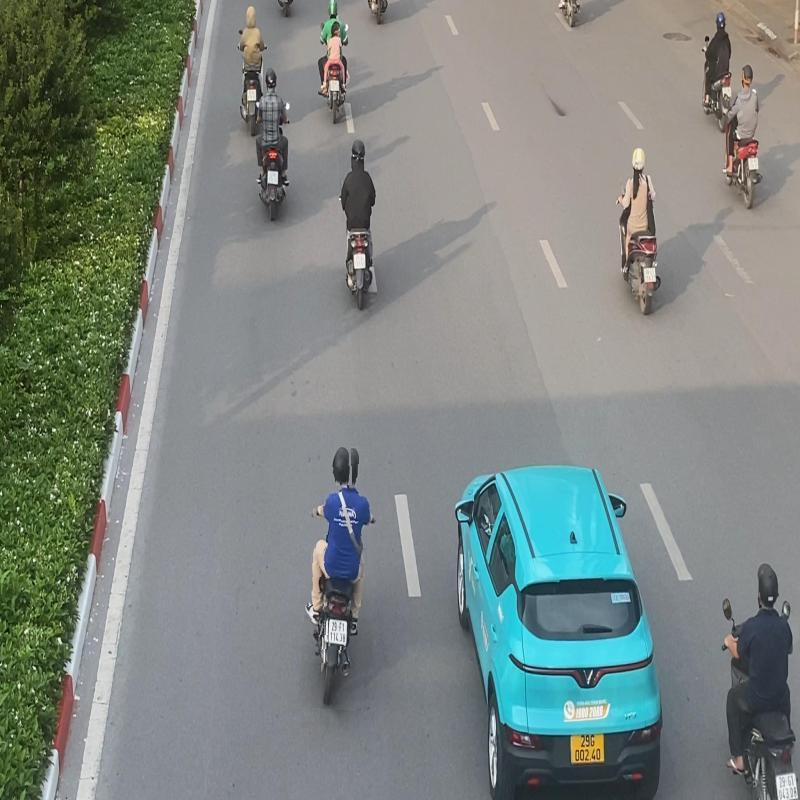helmet: (332, 447, 352, 486)
licenseplate: (328, 618, 348, 646)
motorcyclist: (301, 446, 376, 710)
